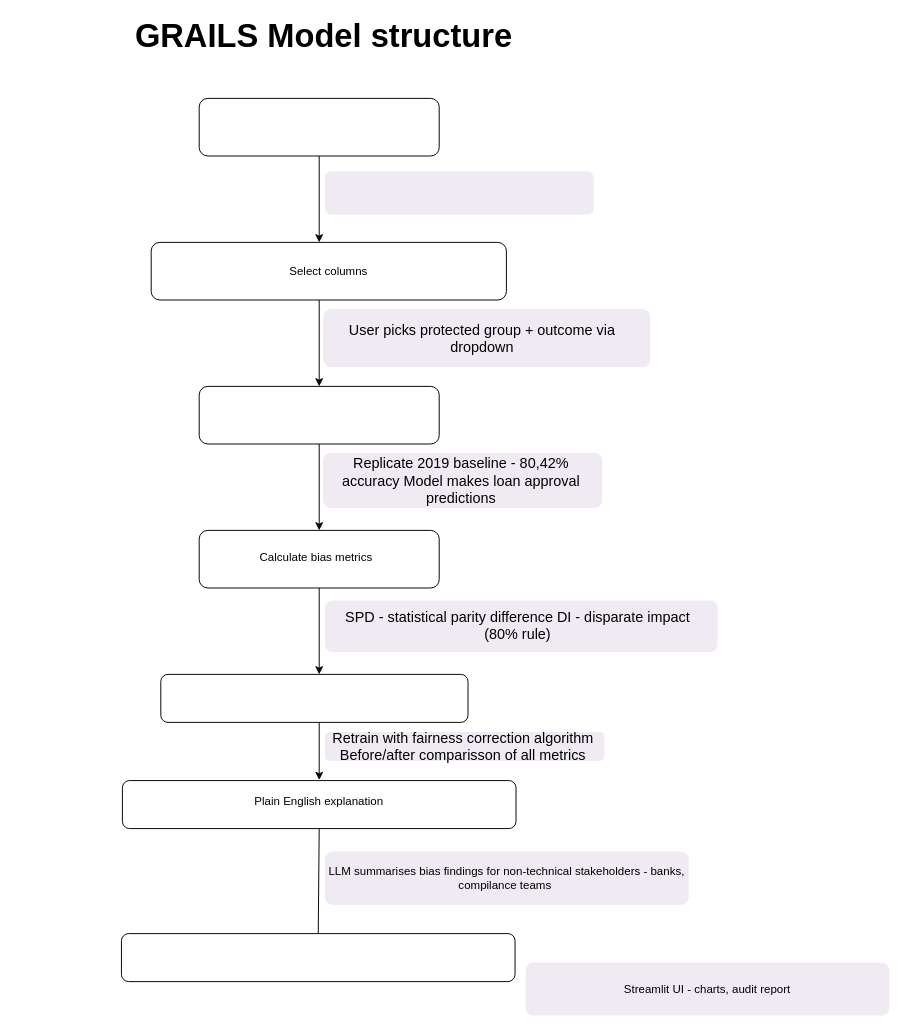
Some shapes in this 905 by 1032 pixel diagram are drawn without their labels. Each missing label, with the box of its shape:
Any loan CSV processed in RAM only, never saved: (324, 171, 593, 214)
Fairness retraining: (160, 673, 468, 722)
Interactive dashboard: (120, 933, 515, 982)
Train Naive Bayes model: (198, 385, 439, 444)
Upload financial dataset: (198, 97, 439, 156)
